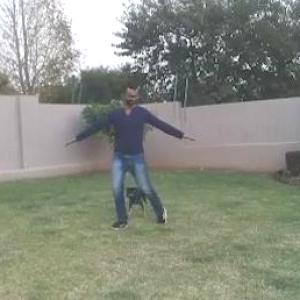land: (77, 92, 188, 222)
